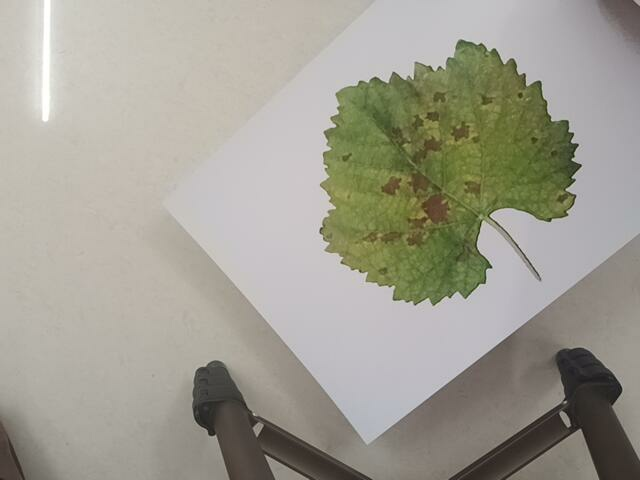Grape_Leaf_Vine_Disease: (311, 38, 617, 307)
